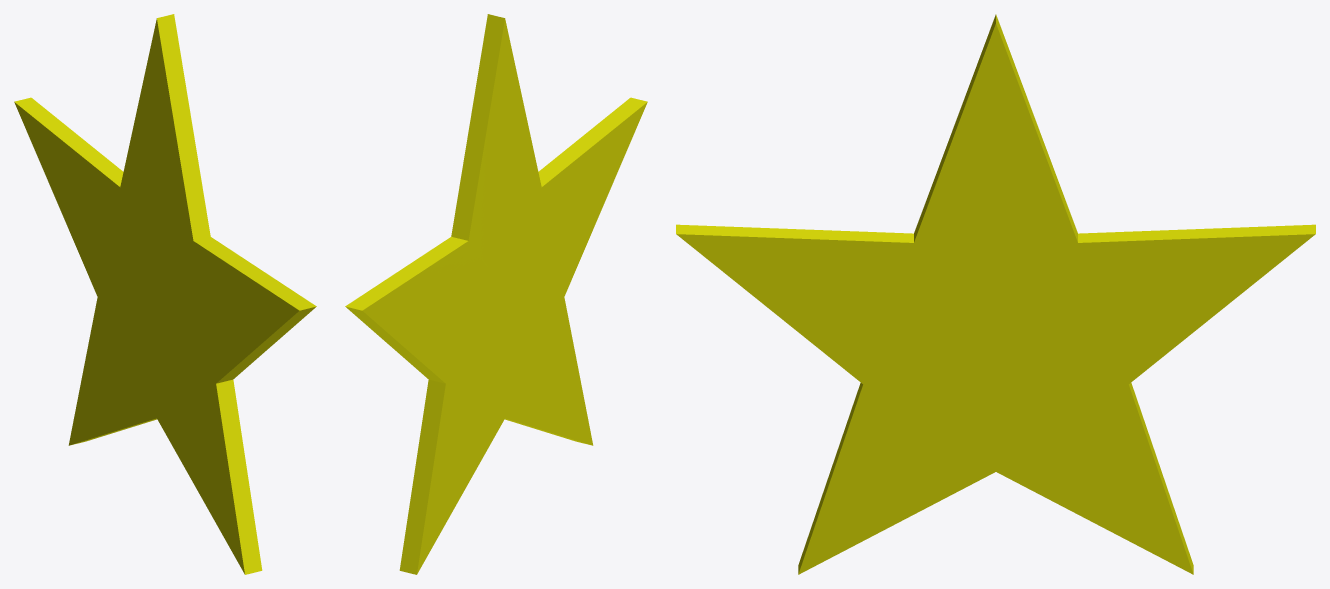
File: Star_low.fbx
3 views of the same model, side by side, from view 1: azimuth 30°, elevation 25°; view 2: azimuth 150°, elevation 25°; view 3: azimuth 270°, elevation 25° (orthographic). The views are drawn at different scales.
Parts seen in each view (by area): view 1: pCylinder1; view 2: pCylinder1; view 3: pCylinder1.
Boxes of the visible parts, x1,y1,x2,y2 form: pCylinder1: (14,14,316,574); pCylinder1: (345,14,647,574); pCylinder1: (676,14,1315,574).
Bounding box in the file's own units: 0.2958 × 8.05 × 8.46.
